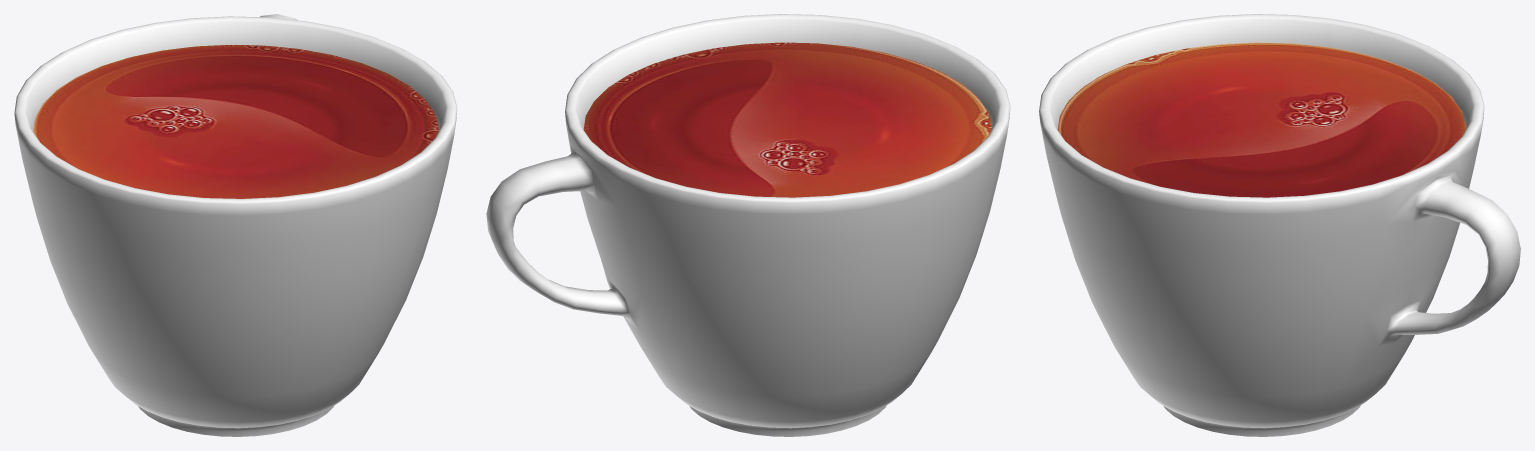
The model's file is Tea cup.fbx.
3 views of the same model, side by side, from view 1: azimuth 30°, elevation 25°; view 2: azimuth 150°, elevation 25°; view 3: azimuth 270°, elevation 25° (orthographic).
Parts seen in each view (by area): view 1: Tea cup, Tea in the cup; view 2: Tea cup, Tea in the cup; view 3: Tea cup, Tea in the cup.
Part boxes in pixels (x1=…): Tea cup: x1=14, y1=14, x2=457, y2=436; Tea in the cup: x1=33, y1=44, x2=438, y2=198; Tea cup: x1=486, y1=14, x2=1010, y2=436; Tea in the cup: x1=583, y1=42, x2=991, y2=197; Tea cup: x1=1039, y1=14, x2=1520, y2=436; Tea in the cup: x1=1057, y1=42, x2=1465, y2=197.
Size of the model in its own units: 9.18 by 6.51 by 9.92.
1 material, 1 textured.
